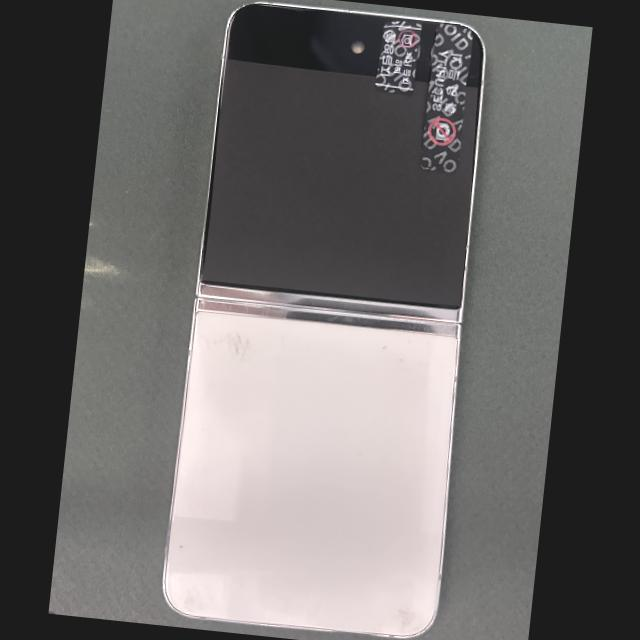phone: (163, 3, 483, 637)
sticker: (419, 24, 473, 174), (374, 20, 422, 95)
